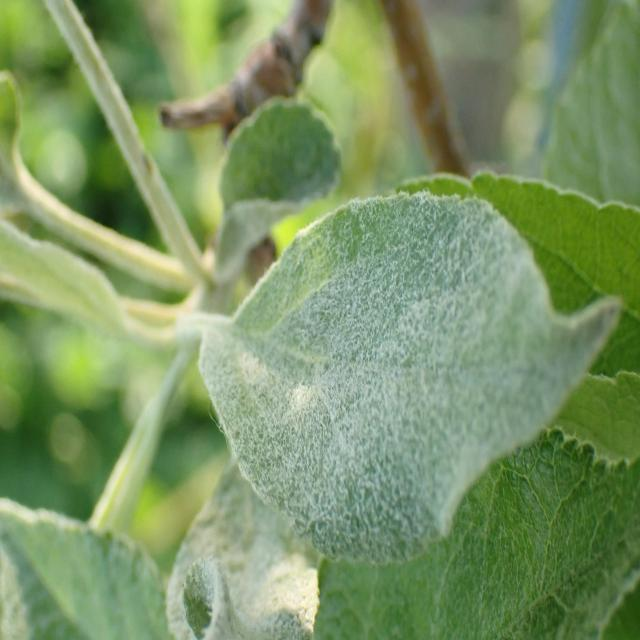Powdery_mildew: (190, 180, 590, 565), (167, 445, 334, 640), (0, 473, 176, 639), (207, 90, 341, 266)
